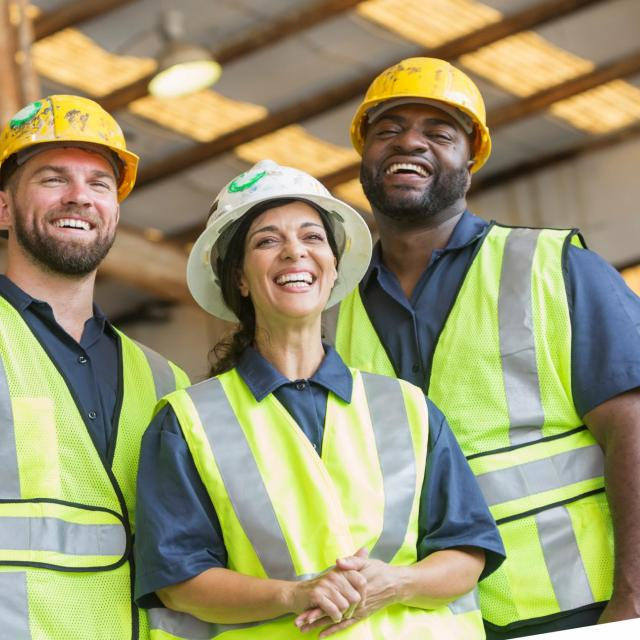Reflective-Jacket: (342, 220, 624, 638), (153, 363, 465, 640), (2, 295, 185, 639)
Safety-Helmet: (182, 156, 372, 286), (346, 53, 495, 158), (0, 91, 141, 188)
